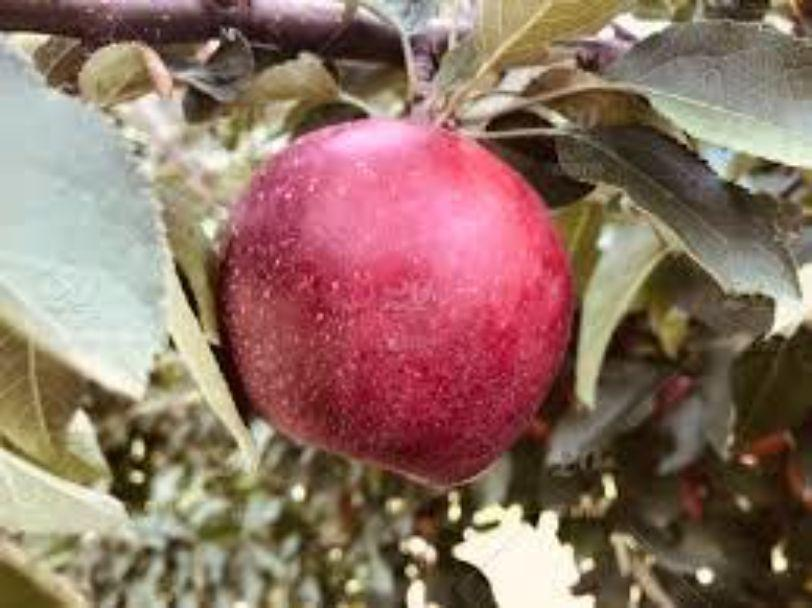HEALTHY: (203, 101, 596, 500)
